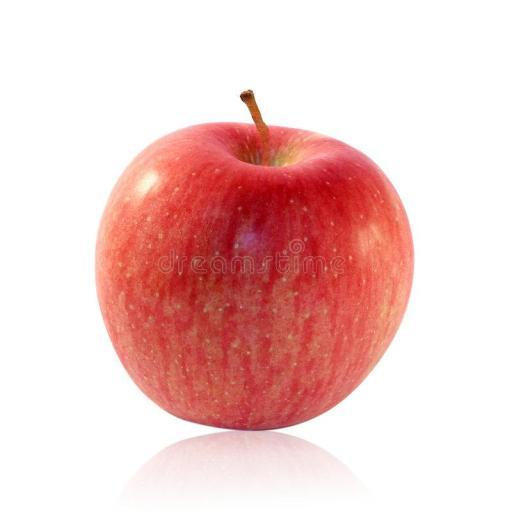apple: (96, 95, 413, 429)
